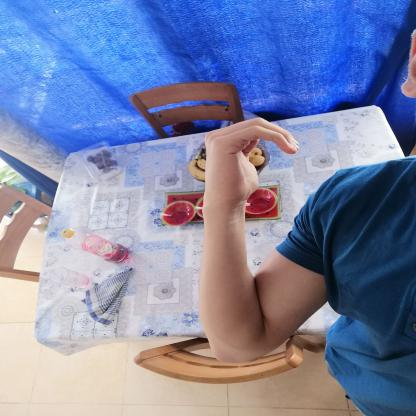HAA: (188, 108, 313, 214)
